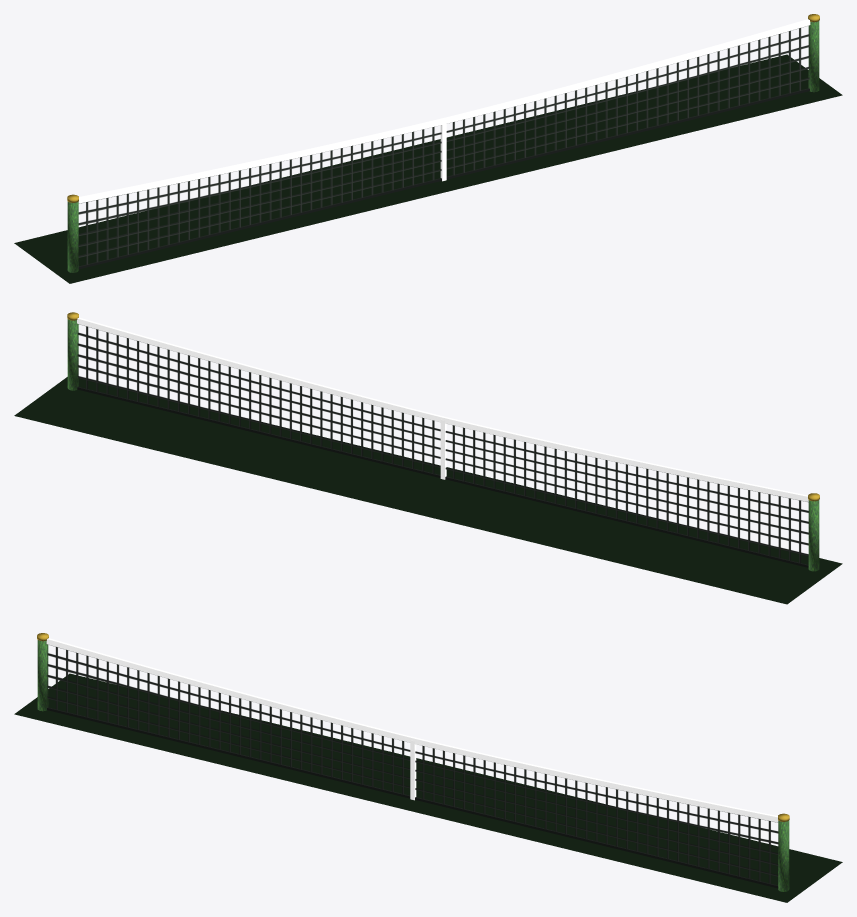
The model's file is tennis_net.glb.
The picture shows the model from 3 angles, top to bottom: view 1: azimuth 30°, elevation 25°; view 2: azimuth 150°, elevation 25°; view 3: azimuth 330°, elevation 25°; orthographic projection.
Parts seen in each view (by area): view 1: TennisNet_Shadow, TennisNet_Mesh, TennisNet_Frame; view 2: TennisNet_Shadow, TennisNet_Mesh, TennisNet_Frame; view 3: TennisNet_Shadow, TennisNet_Mesh, TennisNet_Frame.
Part boxes in pixels (x1=…): TennisNet_Shadow: x1=14, y1=54, x2=842, y2=283; TennisNet_Mesh: x1=78, y1=25, x2=809, y2=266; TennisNet_Frame: x1=67, y1=14, x2=819, y2=272; TennisNet_Shadow: x1=14, y1=377, x2=842, y2=604; TennisNet_Mesh: x1=77, y1=324, x2=808, y2=564; TennisNet_Frame: x1=67, y1=312, x2=819, y2=571; TennisNet_Shadow: x1=14, y1=673, x2=842, y2=902; TennisNet_Mesh: x1=47, y1=644, x2=778, y2=885; TennisNet_Frame: x1=37, y1=633, x2=789, y2=891.
Size of the model in its own units: 12.4 by 1.13 by 1.55.
Materials: 7 (5 with a texture image).
